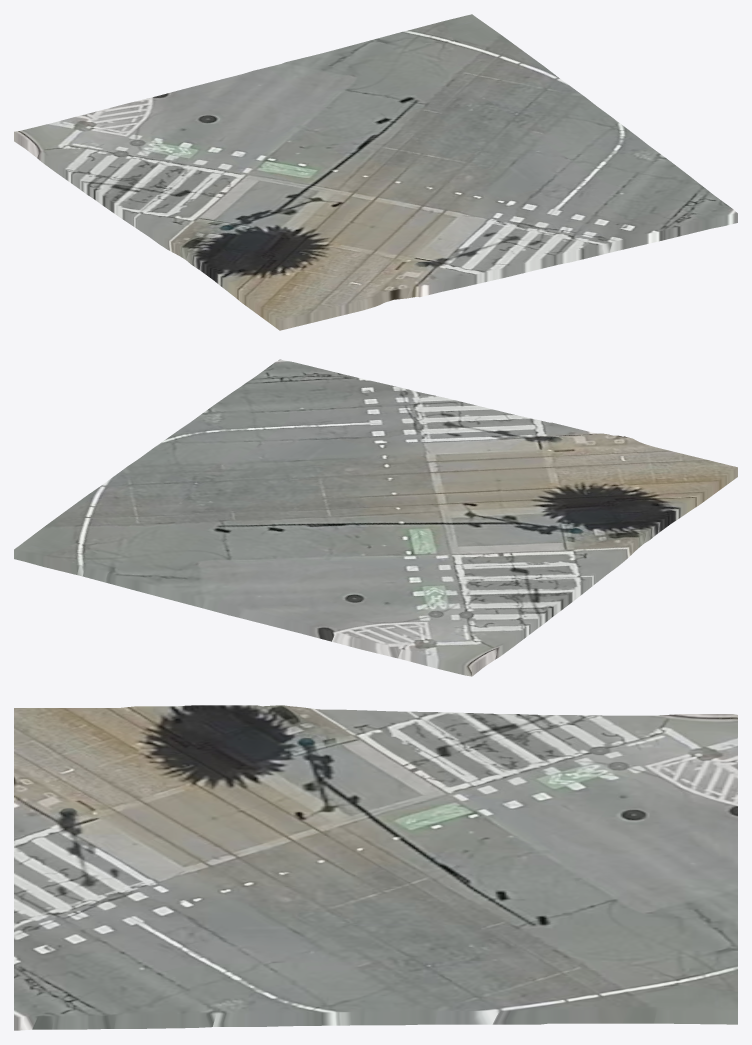
The model's file is z20-167785-405216-h0-yup-uvflip-v3-world.glb.
The picture shows the model from 3 angles, top to bottom: view 1: azimuth 30°, elevation 25°; view 2: azimuth 150°, elevation 25°; view 3: azimuth 270°, elevation 25°; orthographic projection. The views are drawn at different scales.
Size of the model in its own units: 30.16 by 1.2 by 30.32.
1 material, 1 textured.
